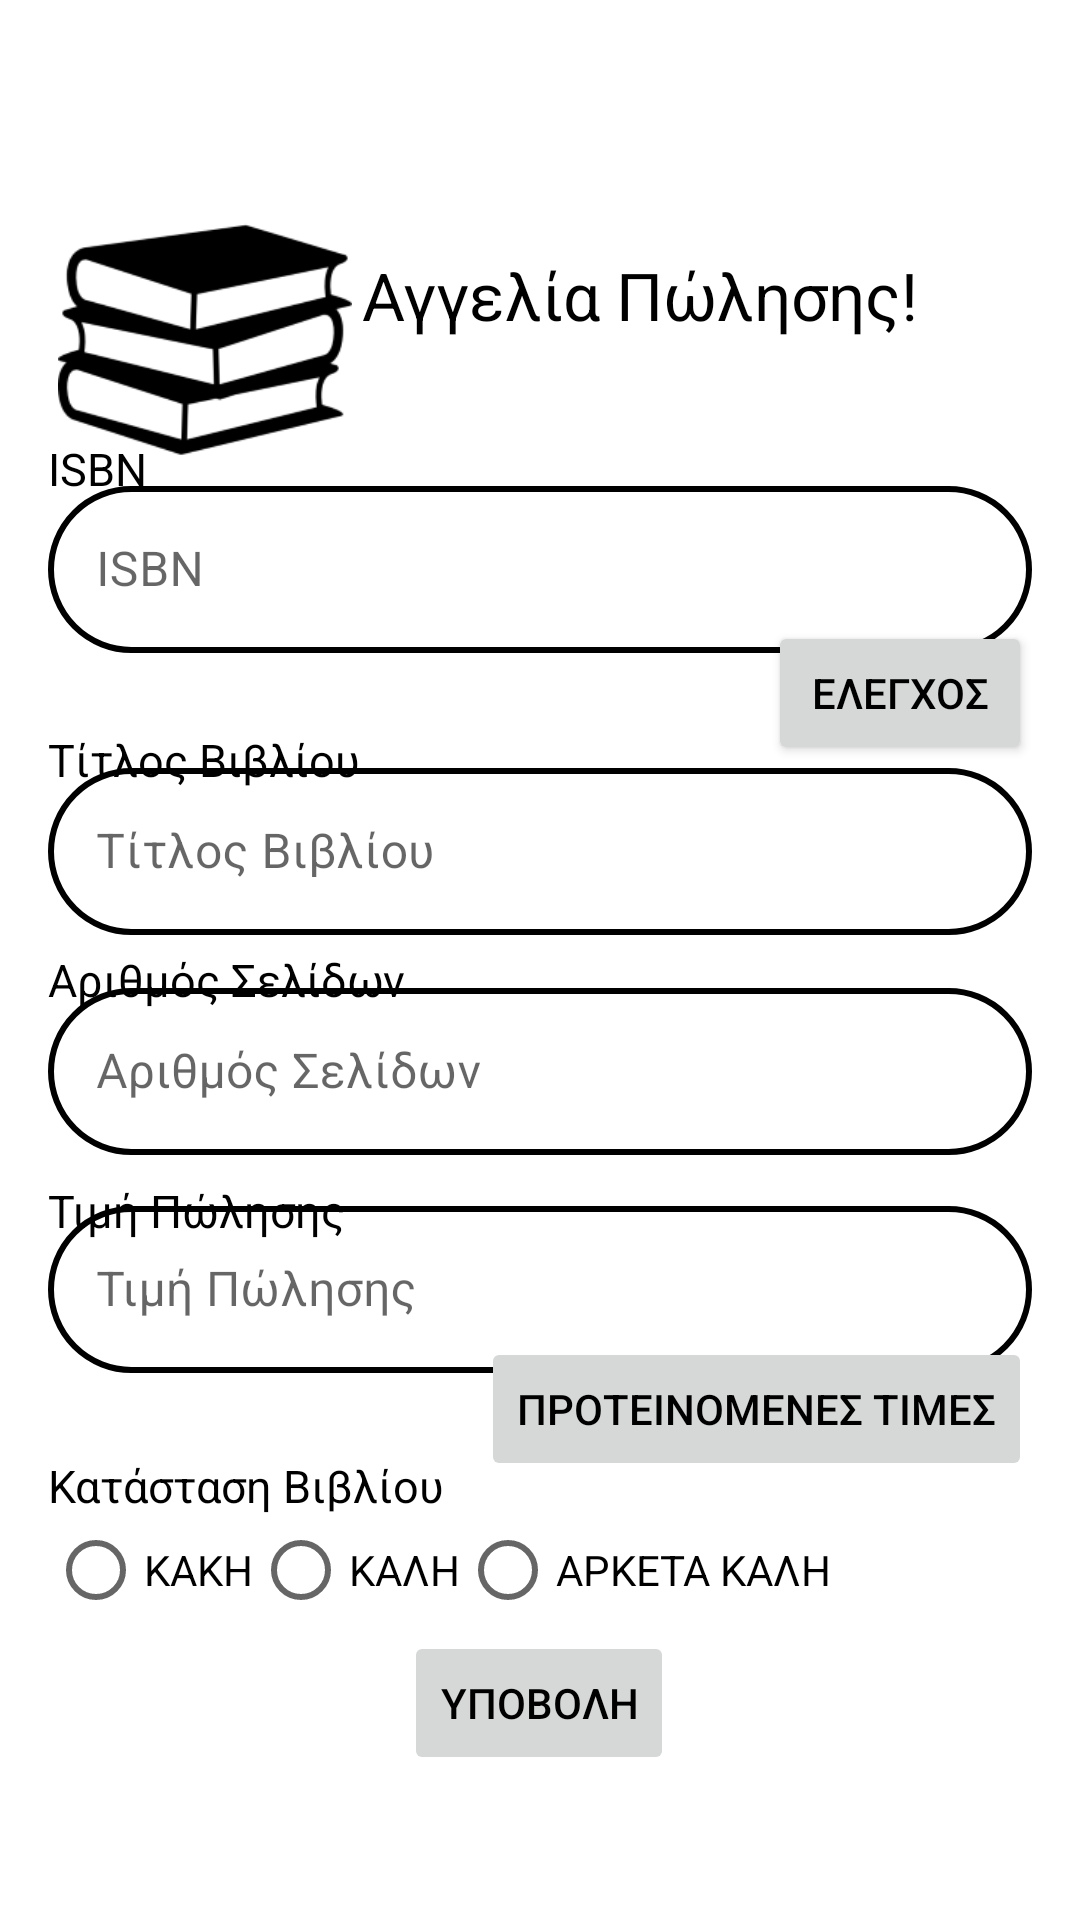

Point at icon controls on the screen. Image size 1080*1920, points as (x=x, y=y).
bookpic: (x=205, y=356)
